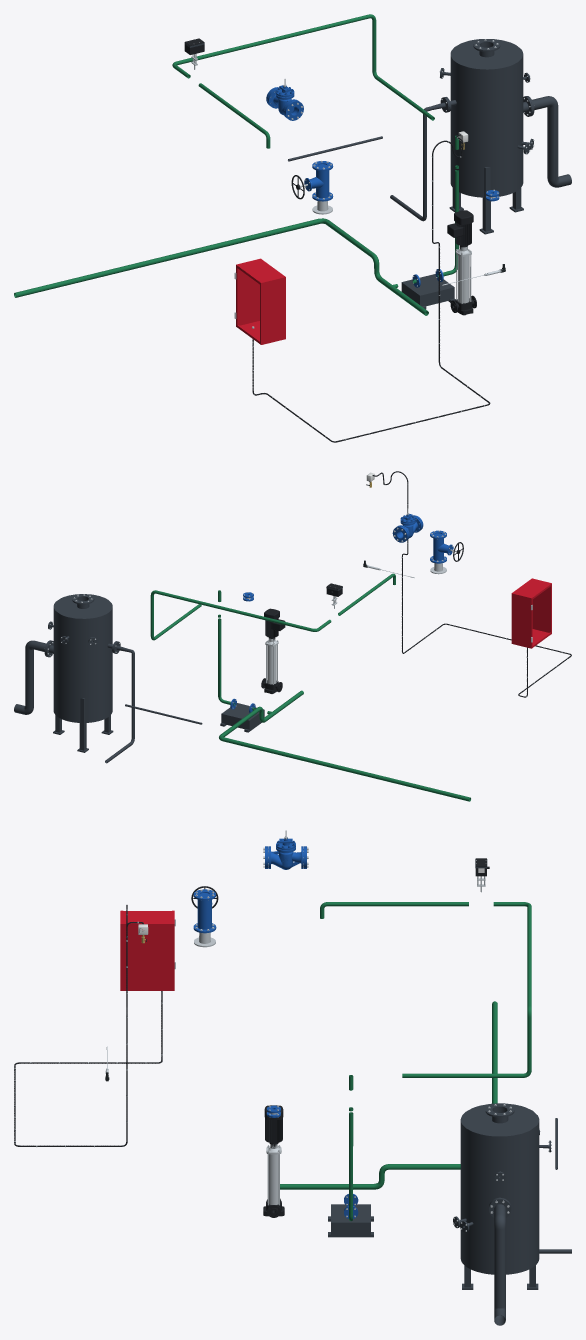
File: s4000-3-CUldhY5G.glb
3 renders of one model, top to bottom at view 1: azimuth 30°, elevation 25°; view 2: azimuth 150°, elevation 25°; view 3: azimuth 270°, elevation 25°, orthographic. The views are drawn at different scales.
Visible parts, largest first — view 1: separator_bdv60_5 / dark, control_cabinet / control_cabinet_0.npz, suction_common / green, to_direct / green, bdv_water_drain / dark, wiring_pressure_transmitter / black, pump_branch_2 / dark, bottom_to_bdv / dark, steam_manual / blue, pump_1 CAD solid 15, gpz CAD solid 0, pump_1 CAD solid 2; view 2: separator_bdv60_5 / dark, control_cabinet / control_cabinet_0.npz, suction_common / green, to_direct / green, bdv_water_drain / dark, wiring_pressure_transmitter / black, pump_branch_2 / dark, bottom_to_bdv / dark, steam_manual / blue, pump_branch_2 / green; view 3: separator_bdv60_5 / dark, control_cabinet / control_cabinet_0.npz, suction_common / green, to_direct / green, bdv_water_drain / dark, wiring_pressure_transmitter / black, pump_branch_2 / dark, gpz CAD solid 0, direct_inlet / green, steam_manual / blue.
Part boxes in pixels (<box>): separator_bdv60_5 / dark: <box>440,39,533,234</box>; control_cabinet / control_cabinet_0.npz: <box>234,258,285,344</box>; suction_common / green: <box>14,218,428,315</box>; to_direct / green: <box>172,14,434,120</box>; bdv_water_drain / dark: <box>525,96,571,187</box>; wiring_pressure_transmitter / black: <box>252,134,490,442</box>; pump_branch_2 / dark: <box>401,274,455,309</box>; bottom_to_bdv / dark: <box>390,97,449,221</box>; steam_manual / blue: <box>304,161,333,201</box>; pump_1 CAD solid 15: <box>447,210,473,246</box>; gpz CAD solid 0: <box>268,78,298,117</box>; pump_1 CAD solid 2: <box>458,255,469,303</box>; separator_bdv60_5 / dark: <box>45,594,116,752</box>; control_cabinet / control_cabinet_0.npz: <box>511,578,551,648</box>; suction_common / green: <box>219,690,470,801</box>; to_direct / green: <box>150,590,331,640</box>; bdv_water_drain / dark: <box>14,640,50,714</box>; wiring_pressure_transmitter / black: <box>372,471,571,697</box>; pump_branch_2 / dark: <box>220,703,264,732</box>; bottom_to_bdv / dark: <box>105,641,134,763</box>; steam_manual / blue: <box>430,530,453,563</box>; pump_branch_2 / green: <box>218,590,271,714</box>; separator_bdv60_5 / dark: <box>453,1103,550,1289</box>; control_cabinet / control_cabinet_0.npz: <box>120,910,175,990</box>; suction_common / green: <box>280,1001,497,1189</box>; to_direct / green: <box>402,902,531,1077</box>; bdv_water_drain / dark: <box>488,1198,511,1325</box>; wiring_pressure_transmitter / black: <box>14,905,162,1146</box>; pump_branch_2 / dark: <box>328,1204,373,1237</box>; gpz CAD solid 0: <box>268,830,303,869</box>; direct_inlet / green: <box>320,902,468,918</box>; steam_manual / blue: <box>193,889,216,933</box>.
Size of the model in its own units: 6.75 by 3.29 by 5.43.
